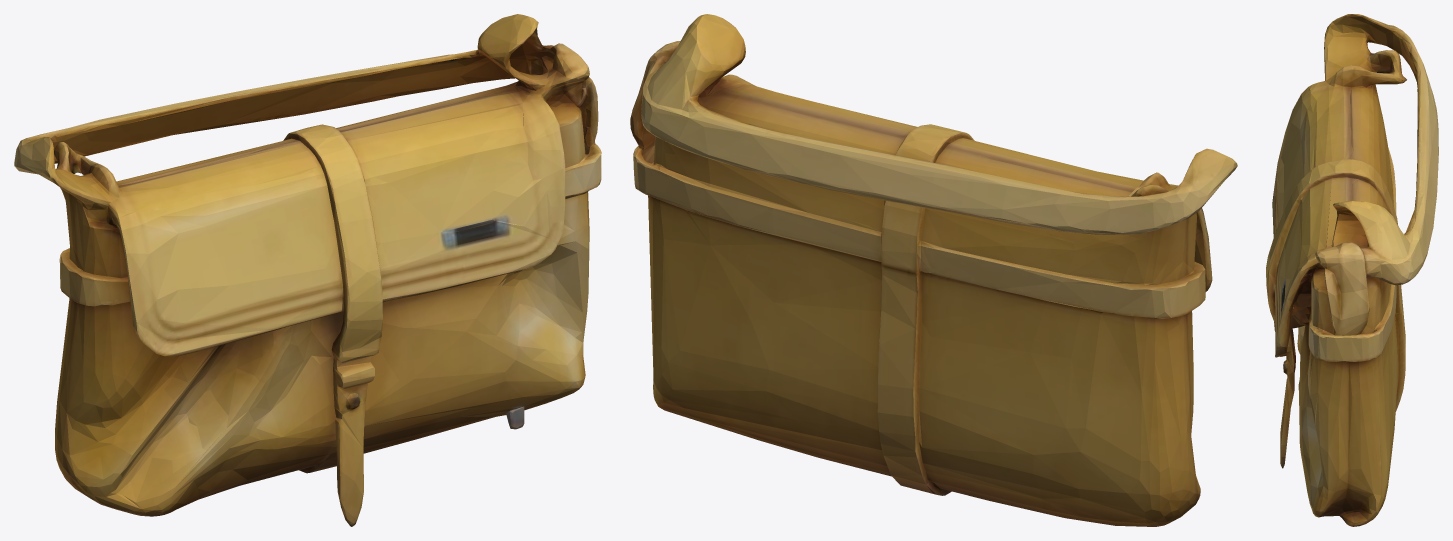
3 views of the same model, side by side, from view 1: azimuth 30°, elevation 25°; view 2: azimuth 150°, elevation 25°; view 3: azimuth 270°, elevation 25° (orthographic). The views are drawn at different scales.
Parts seen in each view (by area): view 1: geometry_0; view 2: geometry_0; view 3: geometry_0.
Boxes of the visible parts, x1,y1,x2,y2 form: geometry_0: (14, 14, 601, 526); geometry_0: (630, 14, 1237, 526); geometry_0: (1266, 14, 1438, 526).
Size of the model in its own units: 0.9956 by 0.7339 by 0.3227.
Materials: 1 (1 with a texture image).
